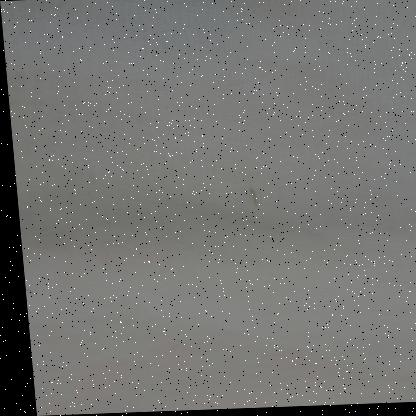spot: (239, 187, 259, 214)
